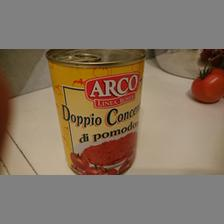Tomatensauce: (44, 47, 144, 172)
